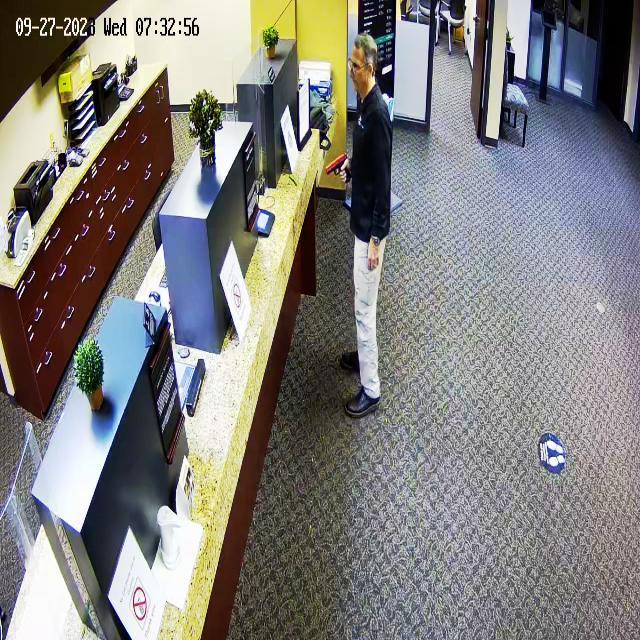Gun: (322, 147, 357, 186)
